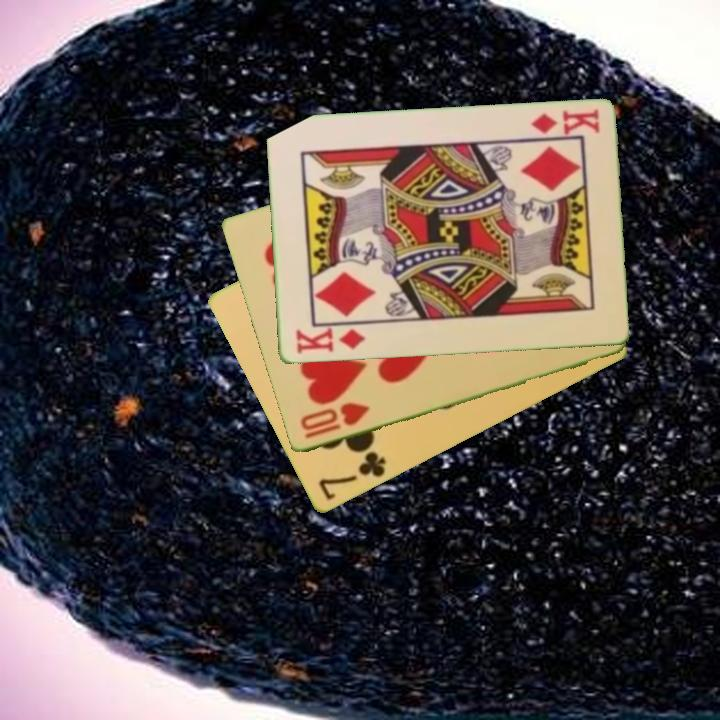10h: (296, 399, 372, 442)
7c: (315, 448, 389, 504)
Kd: (292, 324, 368, 357), (527, 106, 602, 139)
